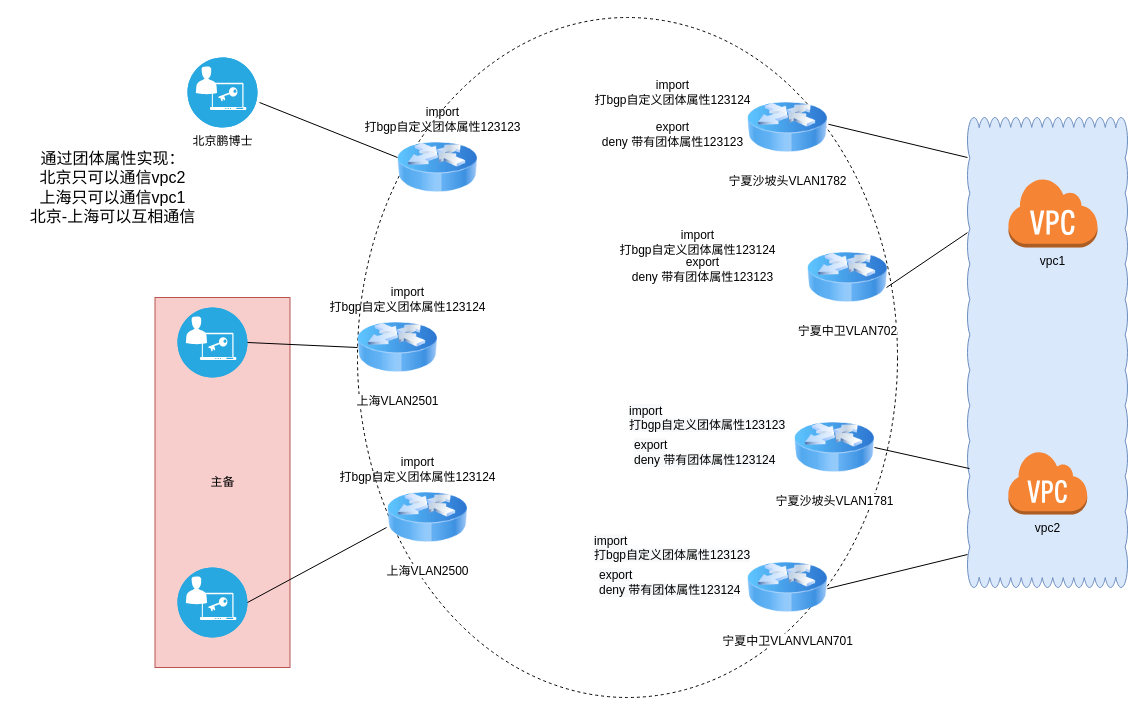
Image size: 1145x715. Some labels were removed from this diagram. The shapes that lost their labels are listed below. From the top down, each one's box as (x1, y1, x2, y2) in pixels, then its label:
(397, 127, 477, 207): 北京VLAN2600
(176, 306, 248, 378): 上海鹏博士A
(966, 116, 1128, 588): AWS
(176, 566, 248, 638): 上海鹏博士B
